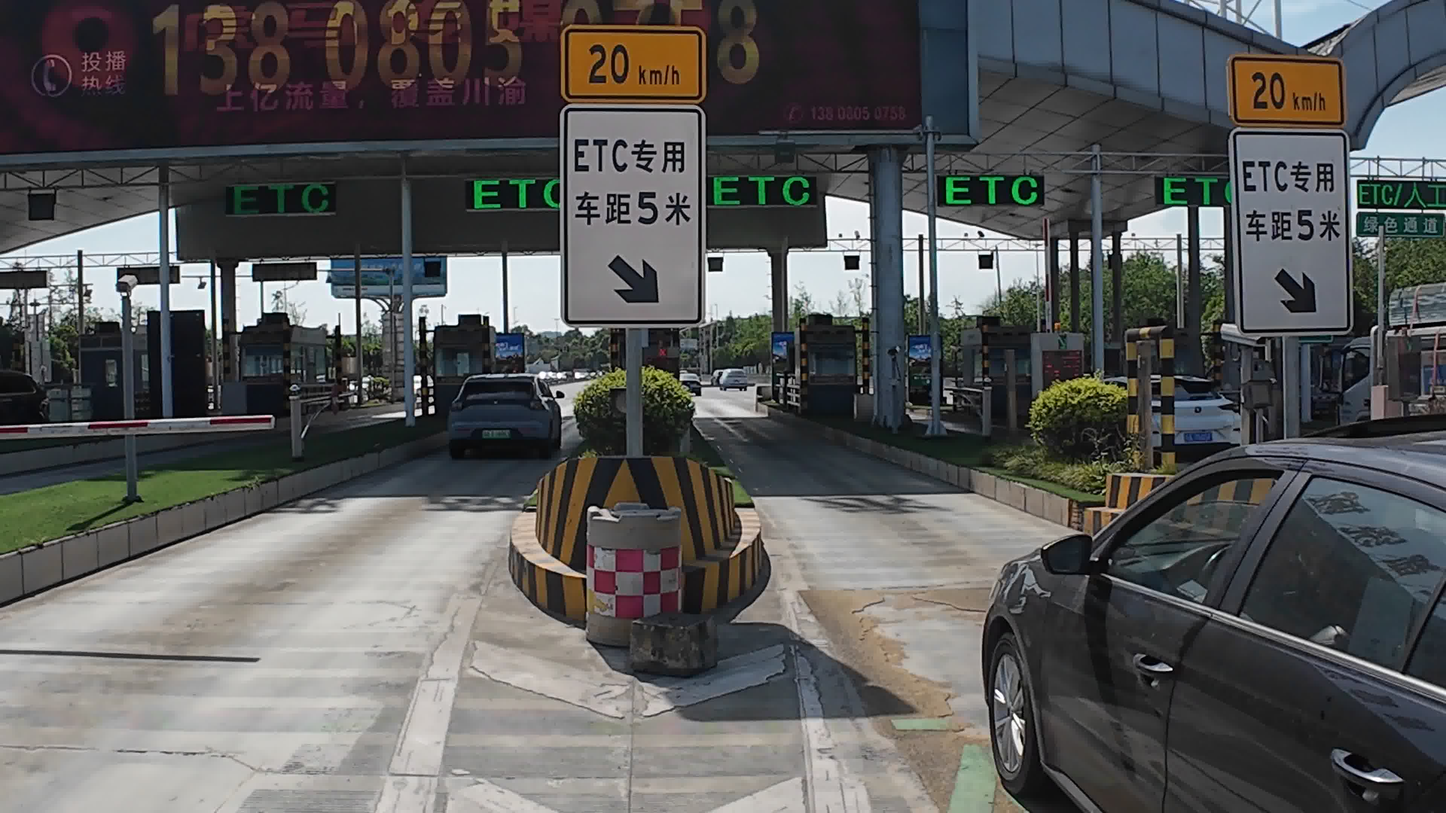anti_collision_bucket: (552, 500, 690, 641)
led_screen: (0, 0, 980, 127), (897, 169, 1054, 221), (1024, 319, 1096, 420), (696, 165, 825, 217), (213, 175, 352, 218), (445, 167, 565, 213), (229, 255, 325, 295), (107, 251, 191, 295), (1166, 172, 1262, 205), (898, 334, 944, 401), (1360, 175, 1438, 202), (492, 328, 530, 382), (22, 188, 63, 237), (769, 328, 806, 381), (0, 262, 74, 284)
roadside_plant: (944, 364, 1147, 505), (565, 344, 691, 452)
toll_booth: (223, 322, 328, 409), (952, 314, 1030, 426), (74, 326, 175, 401), (431, 319, 493, 429), (808, 321, 855, 420)
warning_sign: (565, 23, 700, 321), (1238, 60, 1363, 336), (0, 390, 279, 448), (1349, 213, 1435, 235)
